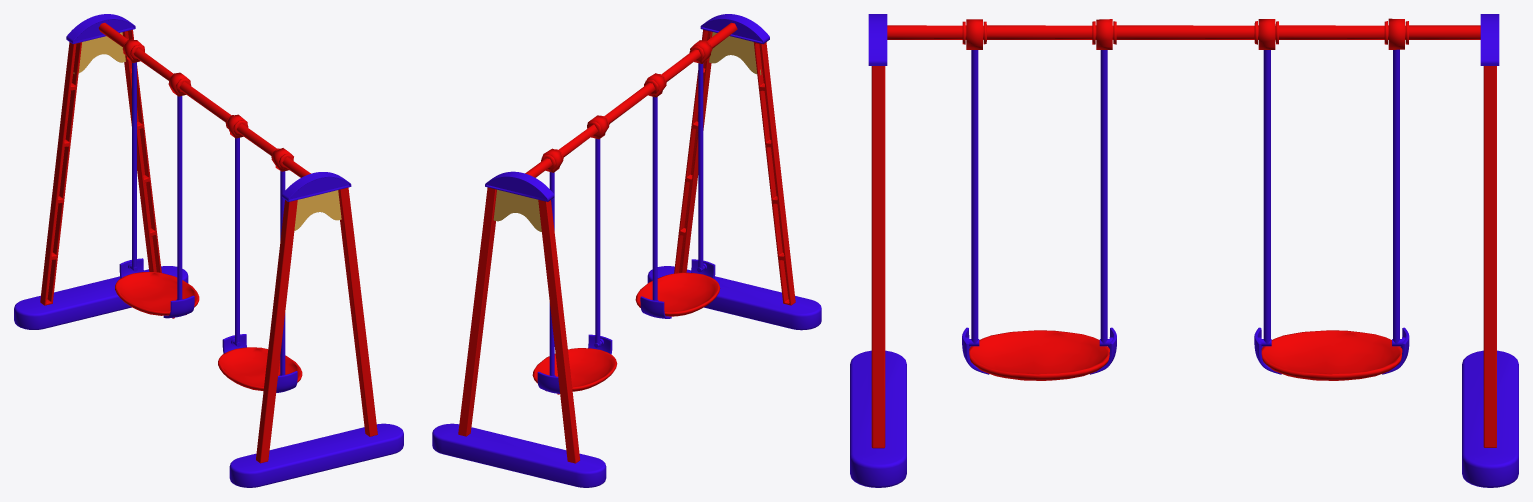
Rendered from swing1.fbx.
3 renders of one model, left to right at view 1: azimuth 30°, elevation 25°; view 2: azimuth 150°, elevation 25°; view 3: azimuth 270°, elevation 25°, orthographic. The views are drawn at different scales.
Visible parts, largest first — view 1: poles, holder, sit_2, top_pole, side_top, Subdivision_Surface_1_2, dcr, Subdivision_Surface_1, swing, Subdivision_Surface_2, Subdivision_Surface; view 2: poles, holder, sit_2, top_pole, Subdivision_Surface_1, side_top, dcr, Subdivision_Surface_1_2, swing, Subdivision_Surface, Subdivision_Surface_2; view 3: holder, sit_2, poles, top_pole, Subdivision_Surface_1, Subdivision_Surface_1_2, swing, side_top.
Part boxes in pixels (left/top/right/bottom): poles: left=40, top=29, right=377, bottom=463; holder: left=14, top=266, right=403, bottom=487; sit_2: left=115, top=272, right=302, bottom=391; top_pole: left=99, top=22, right=310, bottom=177; side_top: left=66, top=14, right=351, bottom=201; Subdivision_Surface_1_2: left=130, top=62, right=182, bottom=300; dcr: left=73, top=32, right=341, bottom=230; Subdivision_Surface_1: left=233, top=137, right=285, bottom=375; swing: left=123, top=40, right=293, bottom=171; Subdivision_Surface_2: left=119, top=258, right=194, bottom=318; Subdivision_Surface: left=222, top=334, right=297, bottom=392; poles: left=458, top=29, right=795, bottom=463; holder: left=432, top=266, right=821, bottom=487; sit_2: left=532, top=272, right=720, bottom=391; top_pole: left=525, top=22, right=737, bottom=177; Subdivision_Surface_1: left=652, top=63, right=704, bottom=300; side_top: left=485, top=14, right=769, bottom=201; dcr: left=493, top=32, right=761, bottom=231; Subdivision_Surface_1_2: left=549, top=138, right=601, bottom=376; swing: left=541, top=40, right=711, bottom=172; Subdivision_Surface: left=640, top=259, right=715, bottom=318; Subdivision_Surface_2: left=537, top=334, right=612, bottom=393; holder: left=850, top=350, right=1518, bottom=487; sit_2: left=969, top=330, right=1402, bottom=380; poles: left=871, top=66, right=1496, bottom=448; top_pole: left=887, top=21, right=1480, bottom=44; Subdivision_Surface_1: left=969, top=50, right=1109, bottom=346; Subdivision_Surface_1_2: left=1261, top=49, right=1401, bottom=346; swing: left=966, top=18, right=1404, bottom=49; side_top: left=868, top=14, right=1499, bottom=65.
Size of the model in its own units: 200 by 327 by 483.
